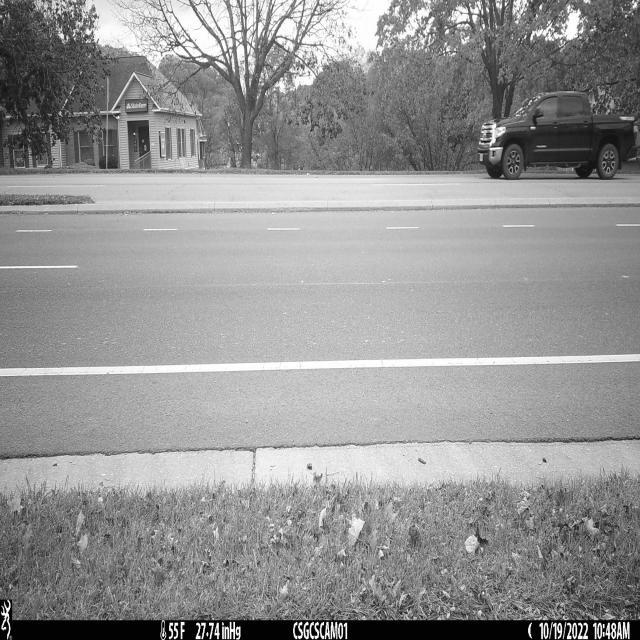Pickup: (479, 91, 640, 180)
